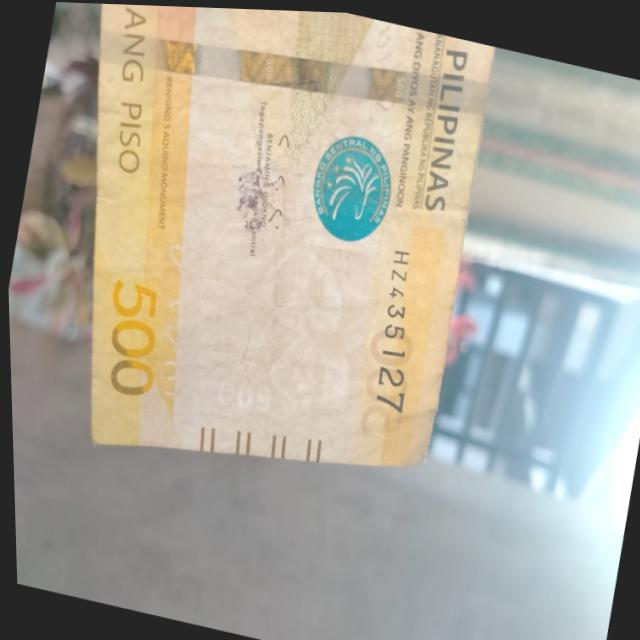security_thread: (95, 3, 492, 148)
see_through_mark: (133, 223, 215, 410)
value_watermark: (204, 359, 280, 421)
watermark: (177, 200, 395, 428)
